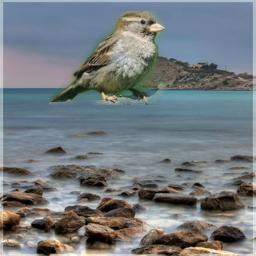Sparrow: (49, 11, 165, 105)
